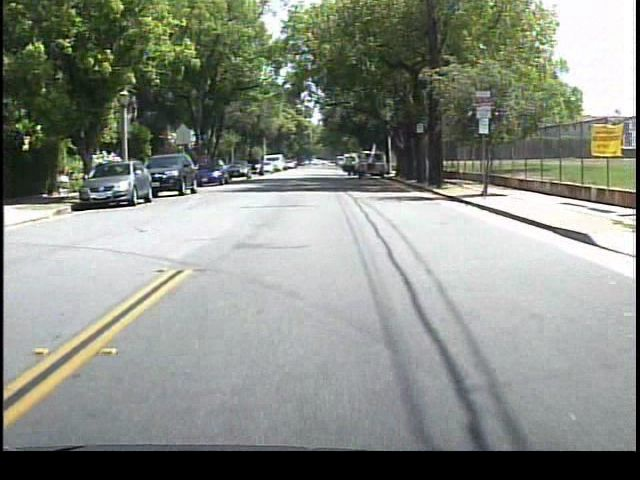person: (342, 153, 358, 179)
